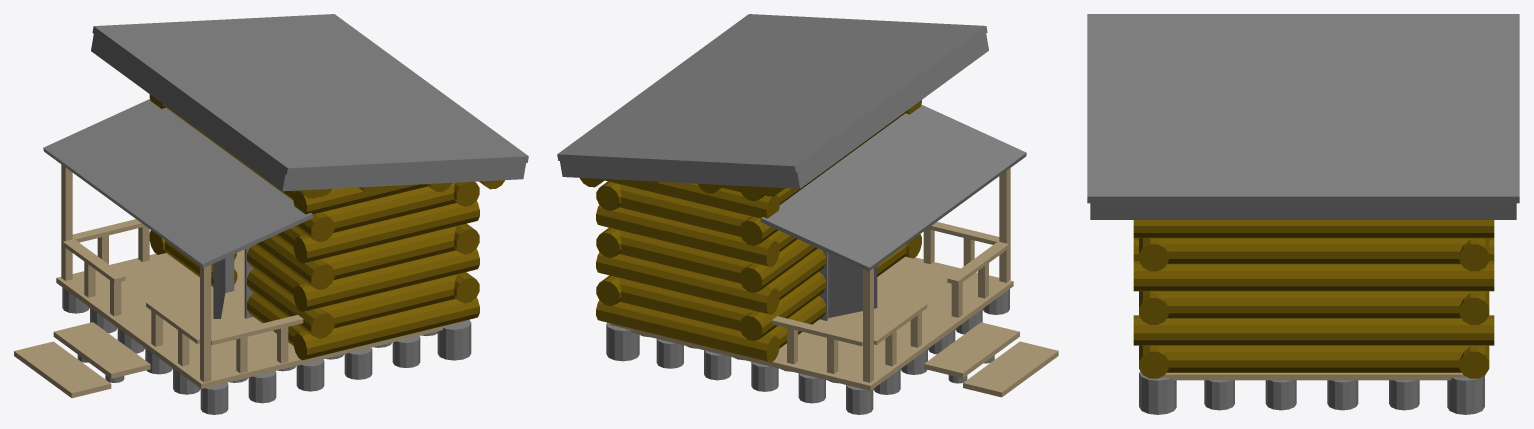
File: Log Cabin v1.fbx
The picture shows the model from 3 angles, left to right: view 1: azimuth 30°, elevation 25°; view 2: azimuth 150°, elevation 25°; view 3: azimuth 270°, elevation 25°; orthographic projection. The views are drawn at different scales.
Visible parts, largest first — view 1: polySurface104, pCube65, pCube56, polySurface115, polySurface111, polySurface139, polySurface135, polySurface133, polySurface107, pCube73, pCube76, polySurface113 (+22 smaller); view 2: polySurface104, pCube65, pCube56, polySurface116, polySurface134, polySurface120, polySurface109, polySurface142, polySurface131, pCube73, pCube76, polySurface123 (+21 smaller); view 3: polySurface104, polySurface137, polySurface140, polySurface132, polySurface128, polySurface106, polySurface127, pCube56, pCylinder128, pCylinder105, pCylinder98, pCylinder121 (+8 smaller).
Boxes of the visible parts, x1,y1,x2,y2 form: polySurface104: (91,14,528,191); pCube65: (43,99,313,267); pCube56: (56,249,465,388); polySurface115: (293,249,479,311); polySurface111: (293,297,479,360); polySurface139: (293,201,479,263); polySurface135: (320,274,457,328); polySurface133: (320,226,456,280); polySurface107: (322,182,456,232); pCube73: (53,322,150,378); pCube76: (14,341,111,398); polySurface113: (247,268,334,338); polySurface104: (557,14,988,188); pCube65: (760,104,1026,271); pCube56: (610,256,1013,390); polySurface116: (596,252,779,314); polySurface134: (596,300,779,362); polySurface120: (596,205,779,267); polySurface109: (618,277,753,331); polySurface142: (619,230,752,283); polySurface131: (619,184,751,236); pCube73: (924,322,1019,378); pCube76: (963,341,1058,397); polySurface123: (605,179,779,218); polySurface104: (1087,14,1519,219); polySurface137: (1133,315,1494,345); polySurface140: (1133,261,1494,291); polySurface132: (1150,291,1477,318); polySurface128: (1150,345,1477,372); polySurface106: (1150,238,1477,264); polySurface127: (1133,220,1494,238); pCube56: (1160,373,1467,380); pCylinder128: (1139,371,1176,414); pCylinder105: (1447,375,1484,414); pCylinder98: (1265,380,1296,410); pCylinder121: (1327,380,1358,410).
Bounding box in the file's own units: 8.04 × 5.11 × 7.02.
